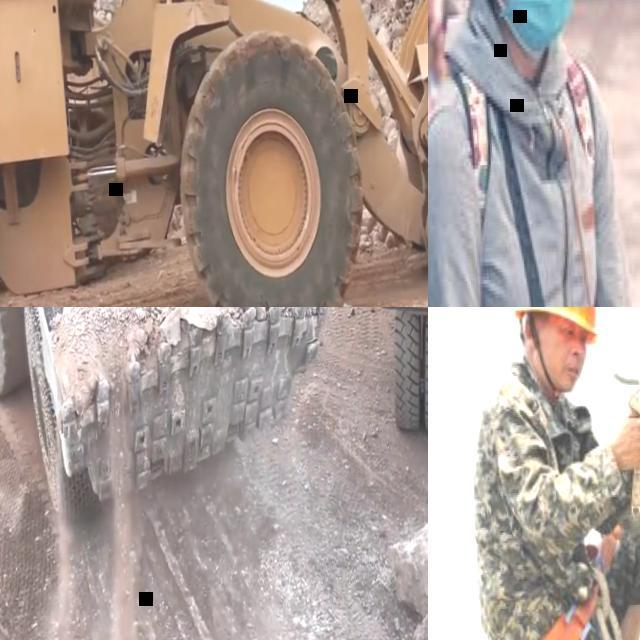Helmet: (517, 300, 604, 336)
Robbery: (430, 0, 640, 309), (447, 304, 640, 640)
